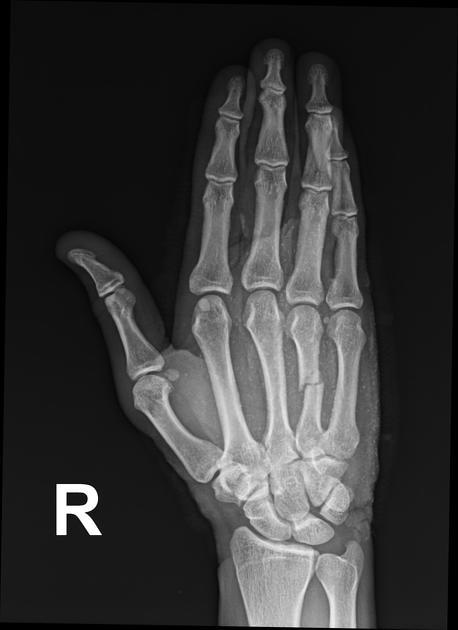fractured: (298, 367, 326, 397)
